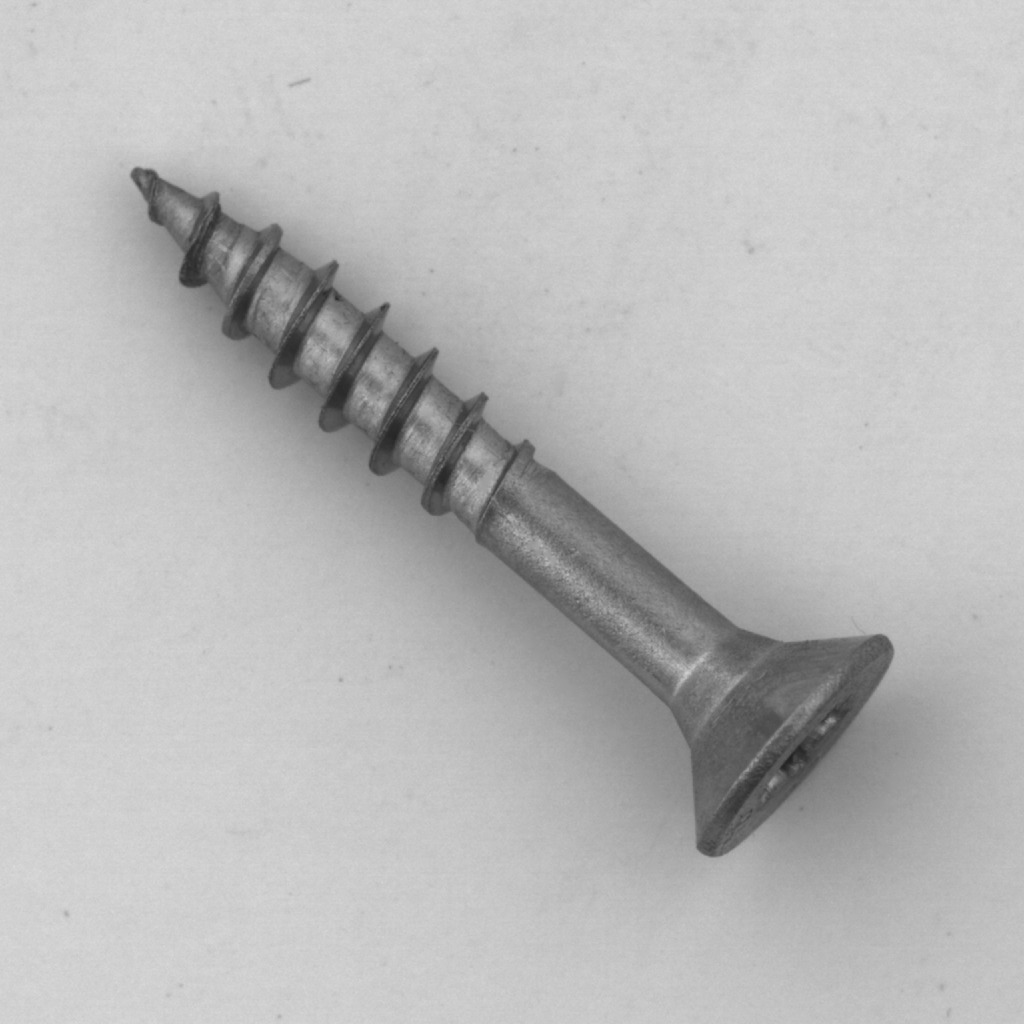good: (113, 139, 907, 886)
